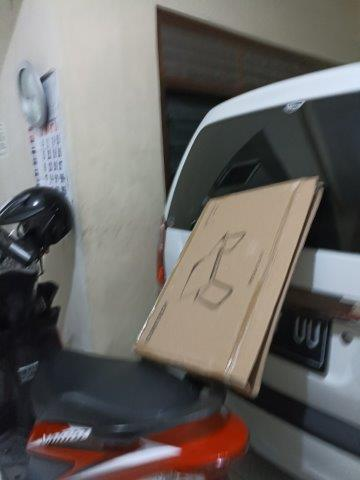kardus: (141, 178, 323, 393)
